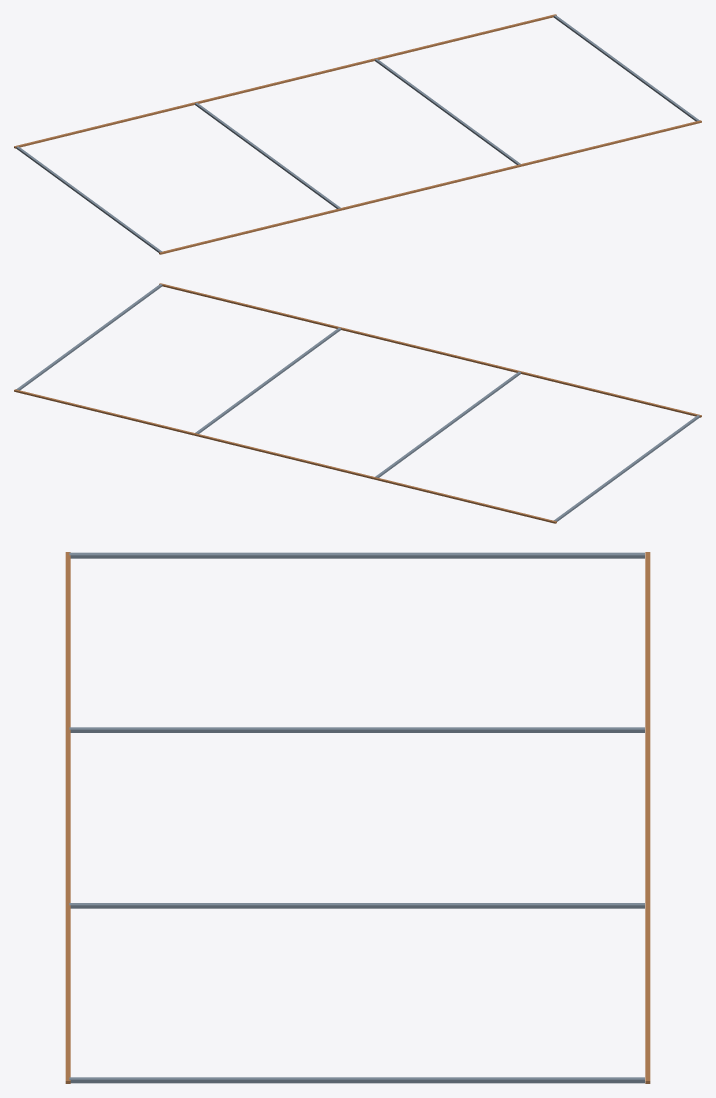
Rendered from 24_PS_Table_LevelDisplayMountRails.fbx.
The picture shows the model from 3 angles, top to bottom: view 1: azimuth 30°, elevation 25°; view 2: azimuth 150°, elevation 25°; view 3: azimuth 270°, elevation 25°; orthographic projection. The views are drawn at different scales.
Parts seen in each view (by area): view 1: PS_Table_LevelDisplayMountRails; view 2: PS_Table_LevelDisplayMountRails; view 3: PS_Table_LevelDisplayMountRails.
Part boxes in pixels (x1,y1,x2,y2): PS_Table_LevelDisplayMountRails: (14,14,701,254); PS_Table_LevelDisplayMountRails: (14,283,701,523); PS_Table_LevelDisplayMountRails: (65,552,650,1083).
Size of the model in its own units: 891 by 2.7 by 417.
